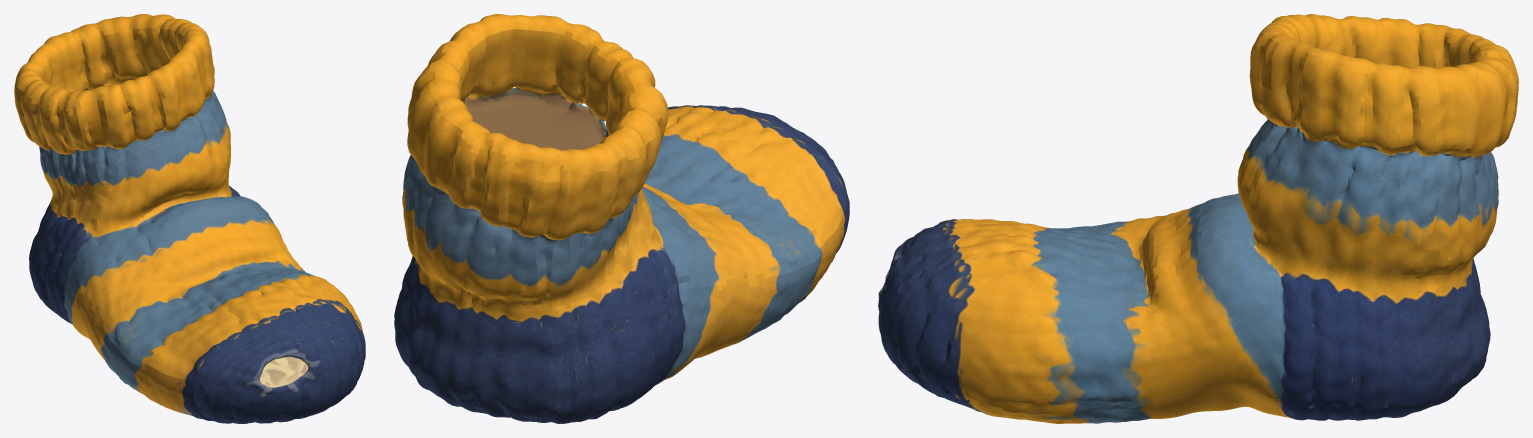
The model's file is sock.glb.
3 views of the same model, side by side, from view 1: azimuth 30°, elevation 25°; view 2: azimuth 150°, elevation 25°; view 3: azimuth 270°, elevation 25° (orthographic). The views are drawn at different scales.
Parts seen in each view (by area): view 1: Mesh0; view 2: Mesh0; view 3: Mesh0.
Part boxes in pixels (box(x1,y1,x2,y2)): Mesh0: box(14, 14, 365, 423); Mesh0: box(394, 14, 849, 423); Mesh0: box(878, 14, 1518, 423).
Bounding box in the file's own units: 0.9701 × 1.17 × 1.89.
1 material, 1 textured.
